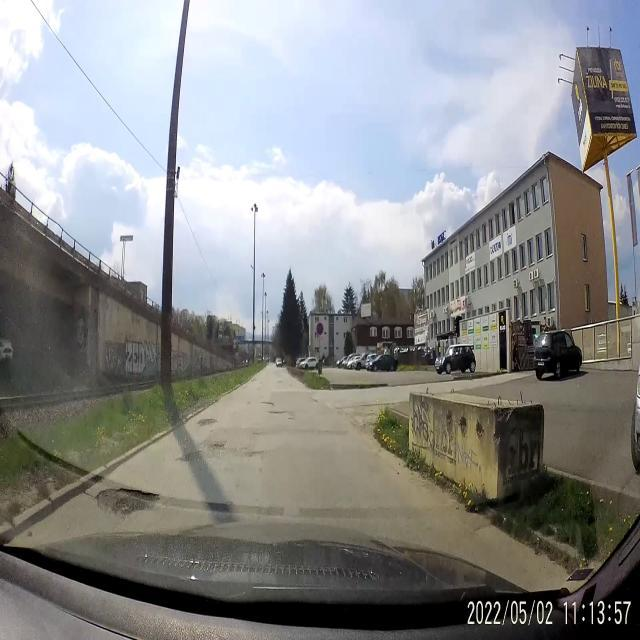Pothole: (94, 476, 158, 524), (260, 396, 293, 418), (204, 436, 230, 458), (194, 410, 220, 432)
